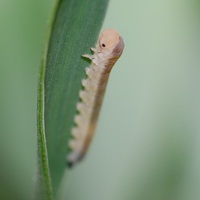insect: (68, 28, 123, 165)
